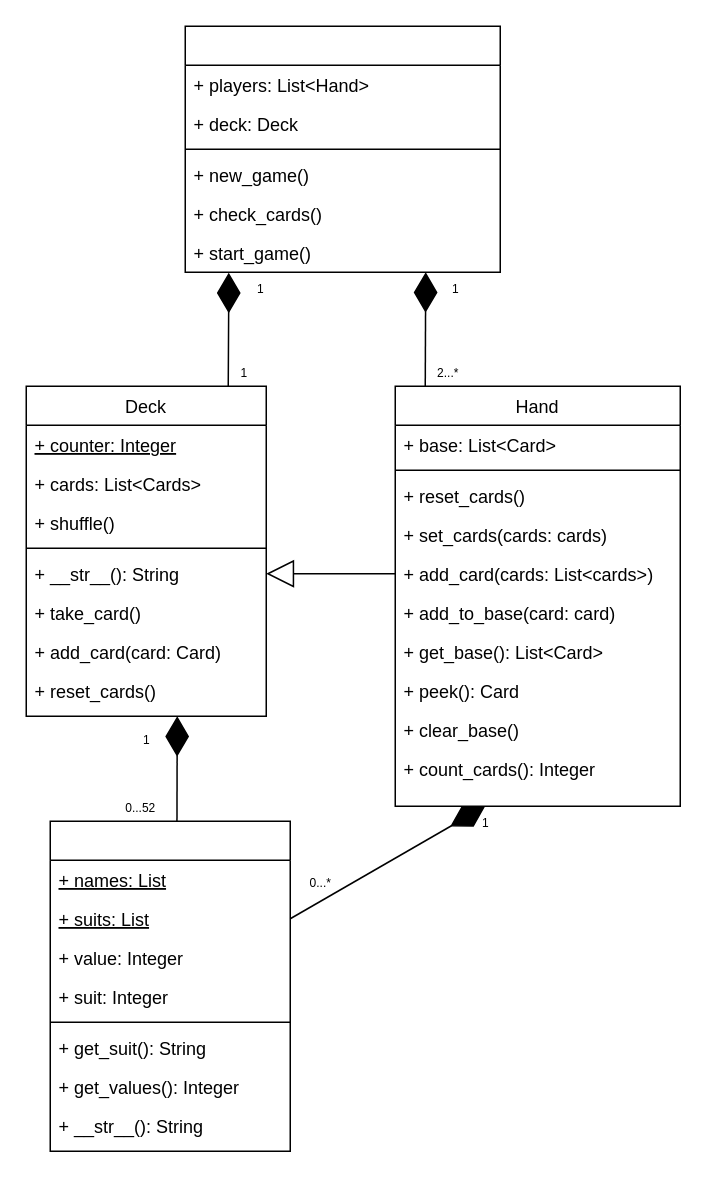
Some shapes in this 707 by 1178 pixel diagram are drawn without their labels. Each missing label, with the box of its shape:
Card: (49, 820, 290, 1151)
War: (184, 25, 500, 272)
